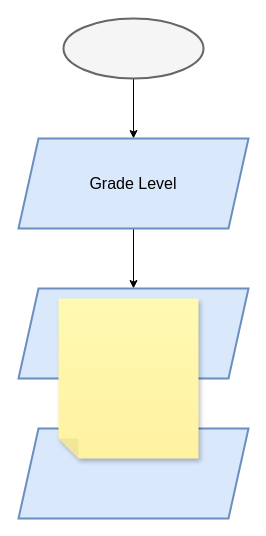
This 266x536 diagram has some shape labels left out. The centre of each missing label's shape, as x and y in pixels:
Schedule: [133,473]
Start: [133,48]
